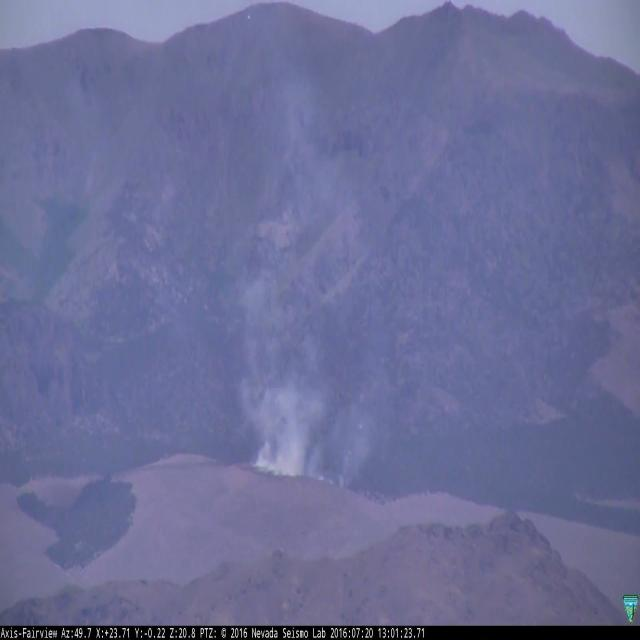smoke: (238, 240, 391, 488)
